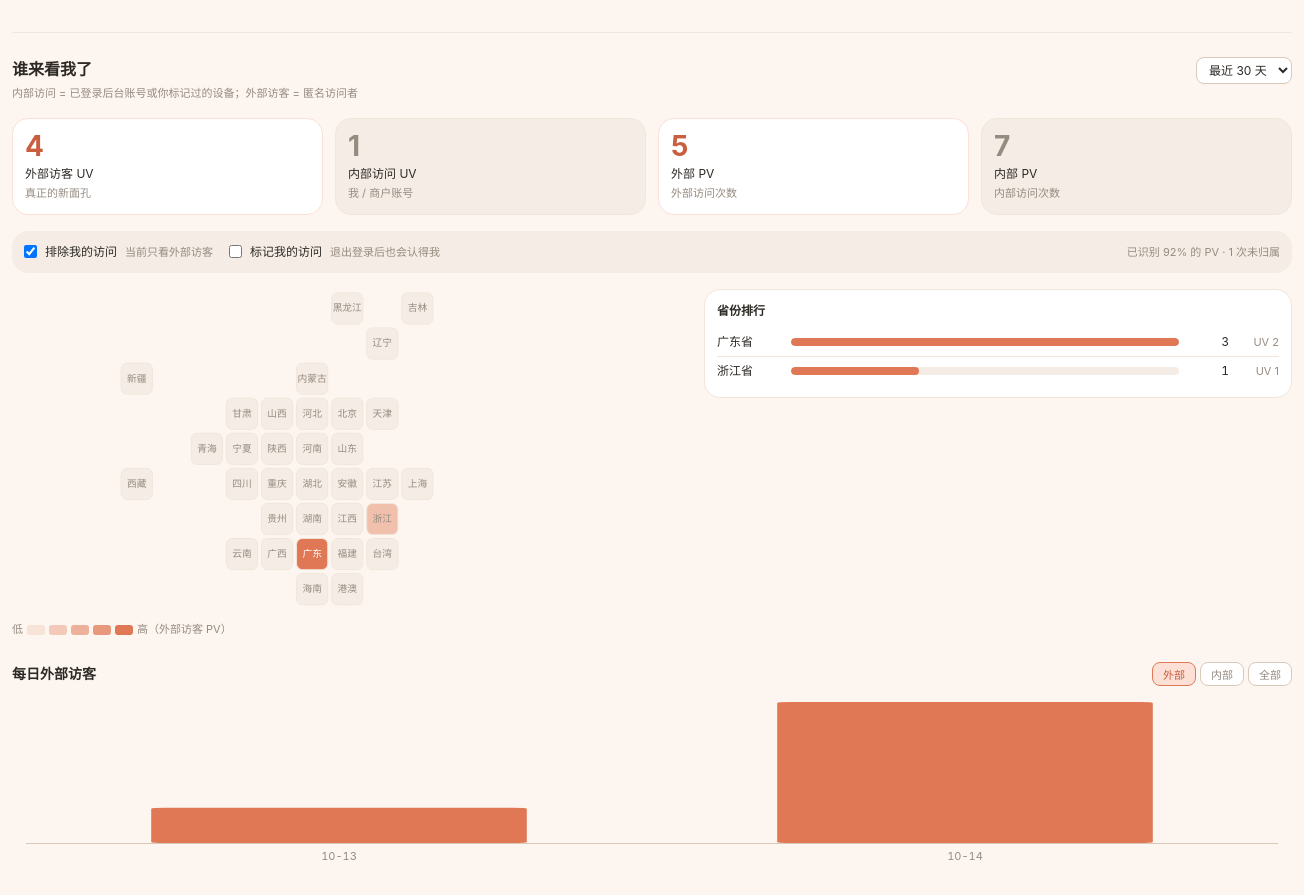
Test: RegionStatsPanel › 开关失败时把错误显示出来，不静默吞掉
expect the text "外部访客 UV" is shown: met, box [25,166,94,181]
Click the checkbox with test id "mark-self-toggle". click: (236, 252)
box: [229,245,242,258]
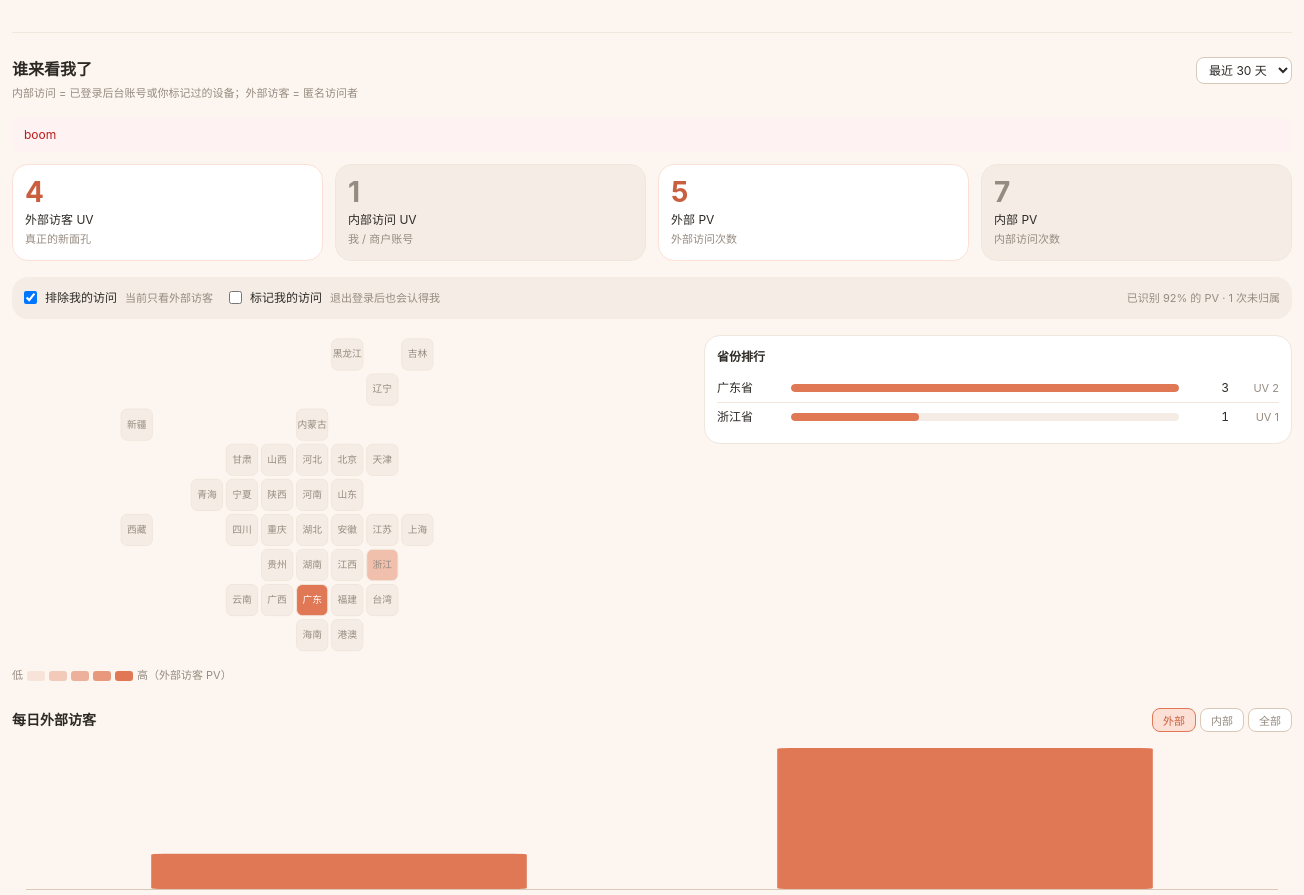
expect the text "boom" is shown: met, box [12,118,1292,152]
